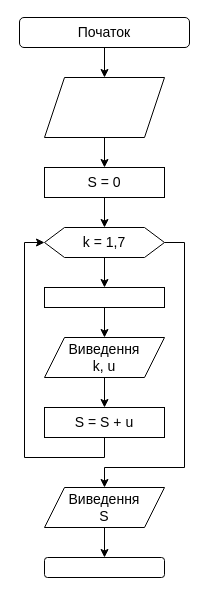
Some shapes in this 210 by 595 pixel diagram are drawn without their labels. The shapes that lost their labels are listed below. From the top down, each one's centre as x and y in pixels, then its label:
At [104,107]: "Введення x".
At [104,297]: "u = x k+1 /(2 k +k)".
At [104,567]: "Кінець".
